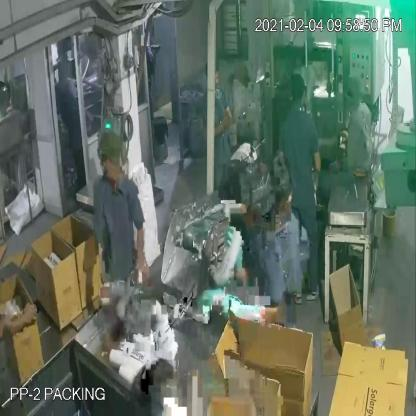no_glove: (0, 292, 52, 340), (129, 216, 157, 291), (93, 222, 117, 302), (202, 113, 232, 144)
